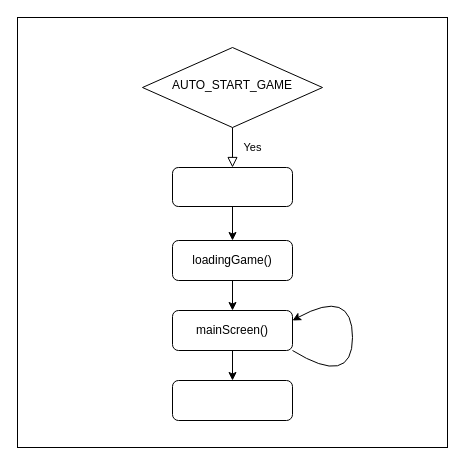
This 465x465 diagram has some shape labels left out. Here are the shapes that lost their labels. From the top down, the centre of each, then its label:
At (232,186): "Calibrate()".
At (232,400): "exitScreen()".
